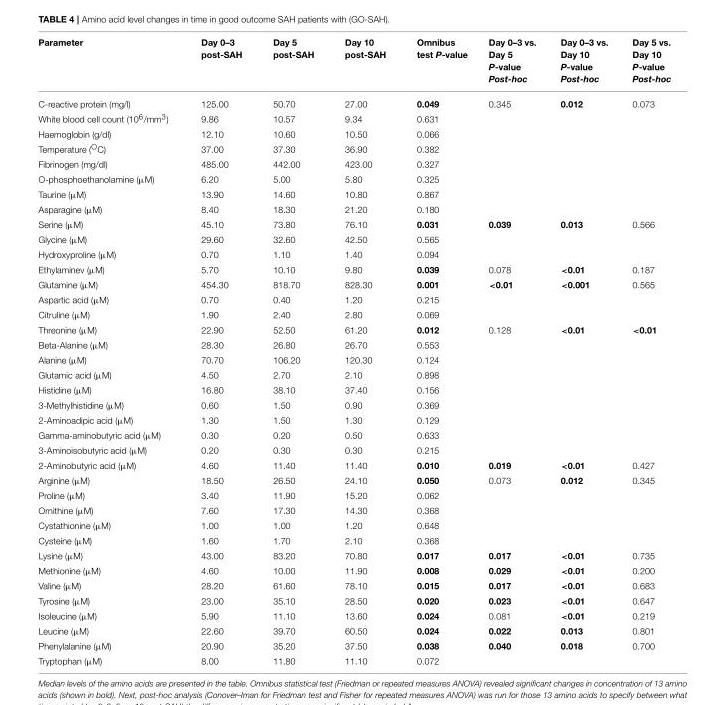table: (37, 37, 670, 665)
table column: (37, 37, 183, 665), (400, 37, 477, 665), (183, 37, 256, 665), (256, 37, 328, 665), (328, 37, 400, 665), (547, 37, 619, 665), (477, 37, 547, 665), (619, 37, 670, 665)
table column header: (37, 37, 670, 91)
table row: (37, 37, 670, 91), (37, 91, 670, 110), (37, 110, 670, 126), (37, 140, 670, 156), (37, 231, 670, 247), (37, 502, 670, 518), (37, 156, 670, 171), (37, 171, 670, 186), (37, 186, 670, 201), (37, 201, 670, 216), (37, 216, 670, 231), (37, 247, 670, 262), (37, 262, 670, 277), (37, 277, 670, 292), (37, 292, 670, 307), (37, 307, 670, 322), (37, 322, 670, 337), (37, 337, 670, 352), (37, 352, 670, 367), (37, 367, 670, 382), (37, 382, 670, 397), (37, 397, 670, 412), (37, 412, 670, 427), (37, 427, 670, 442), (37, 442, 670, 457), (37, 457, 670, 472), (37, 472, 670, 487), (37, 487, 670, 502), (37, 518, 670, 533), (37, 533, 670, 548), (37, 548, 670, 563), (37, 563, 670, 578), (37, 578, 670, 593), (37, 593, 670, 608), (37, 608, 670, 623), (37, 623, 670, 638), (37, 638, 670, 653), (37, 126, 670, 140), (37, 653, 670, 665)
